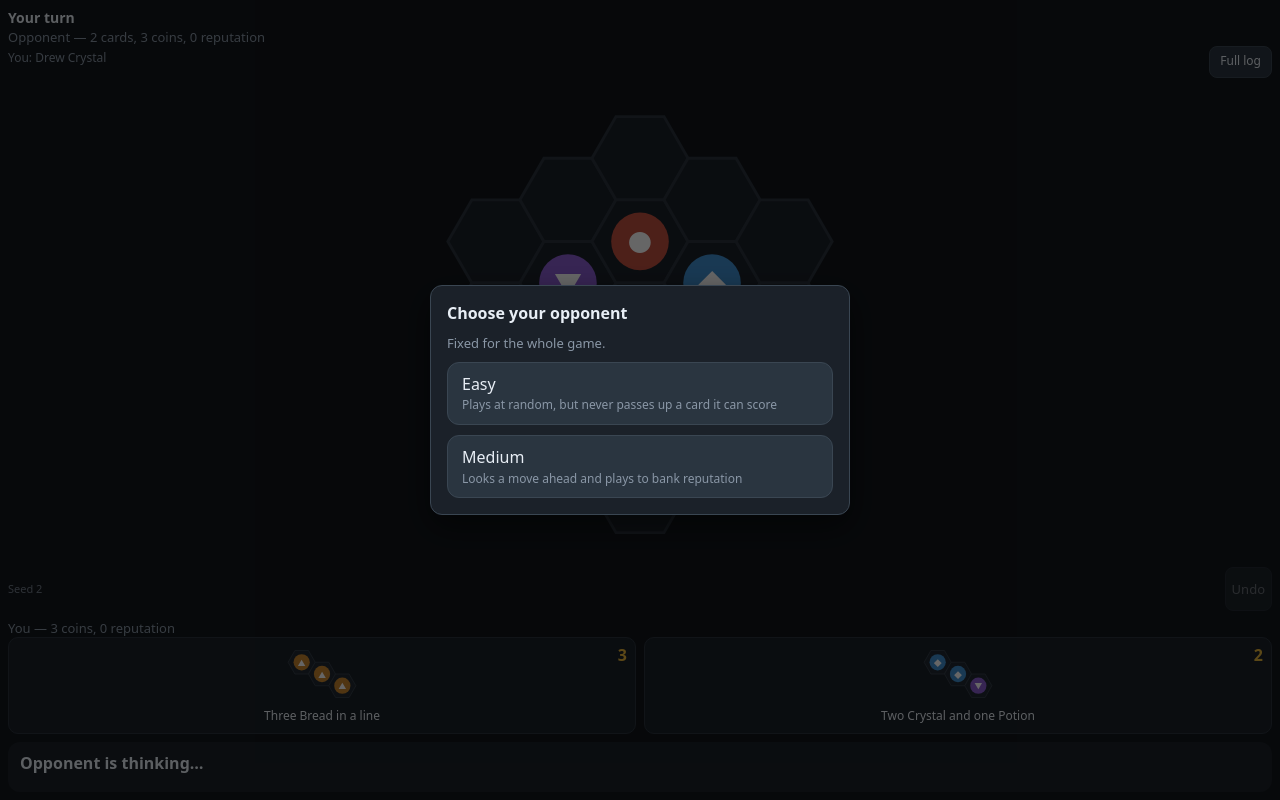
App › shows the chosen opponent as a label, with nothing to change mid-game
Click the text "Medium" at point(493, 457), box top-left (462, 446), bottom-right (524, 468)
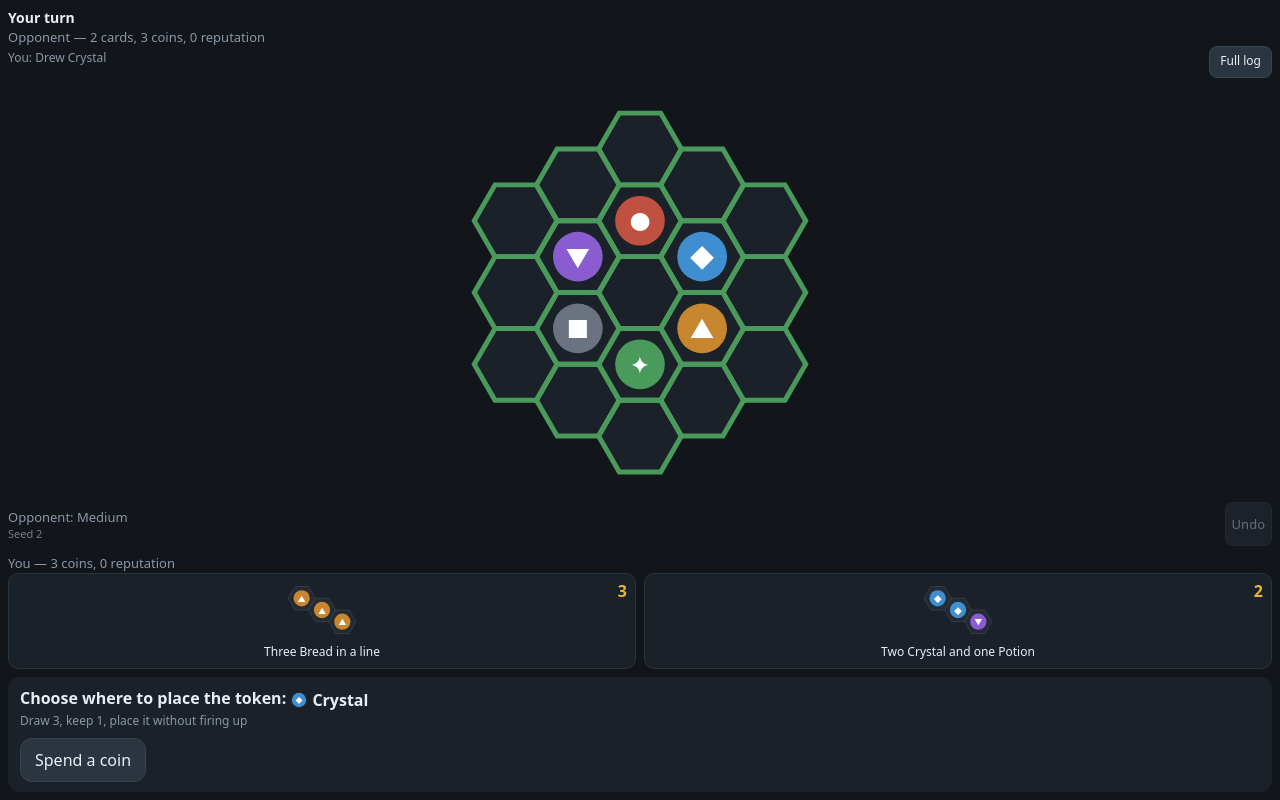
Now the heading labelled "Choose your opponent" is gone
Now the text "Opponent: Medium" is shown, box top-left (8, 508), bottom-right (128, 526)
